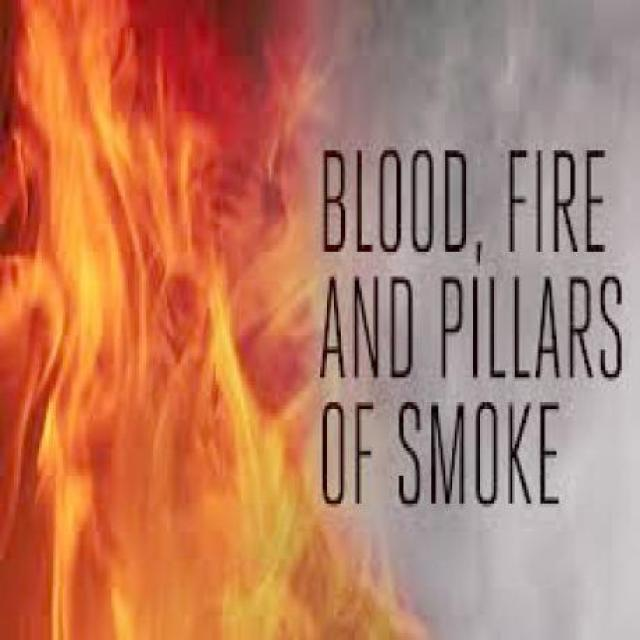Fire: (6, 0, 321, 640)
Smoke: (323, 3, 640, 640)
